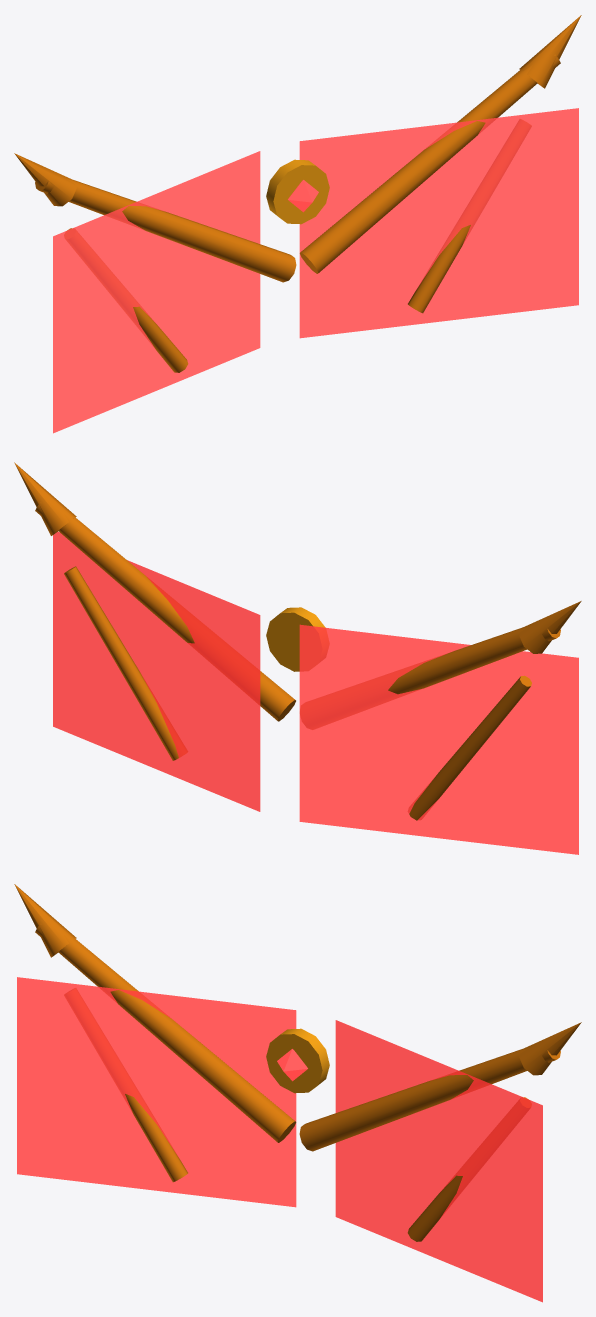
The model's file is wings_dragon_level2.glb.
3 renders of one model, top to bottom at view 1: azimuth 30°, elevation 25°; view 2: azimuth 150°, elevation 25°; view 3: azimuth 330°, elevation 25°, orthographic.
Parts seen in each view (by area): view 1: WINGS_OF_DRAGON_LEVEL2; view 2: WINGS_OF_DRAGON_LEVEL2; view 3: WINGS_OF_DRAGON_LEVEL2.
Part boxes in pixels (box(x1,y1,x2,y2)): WINGS_OF_DRAGON_LEVEL2: box(14, 15, 581, 433); WINGS_OF_DRAGON_LEVEL2: box(14, 462, 581, 854); WINGS_OF_DRAGON_LEVEL2: box(14, 884, 581, 1302).
Bounding box in the file's own units: 3.62 × 1.66 × 0.3958.
